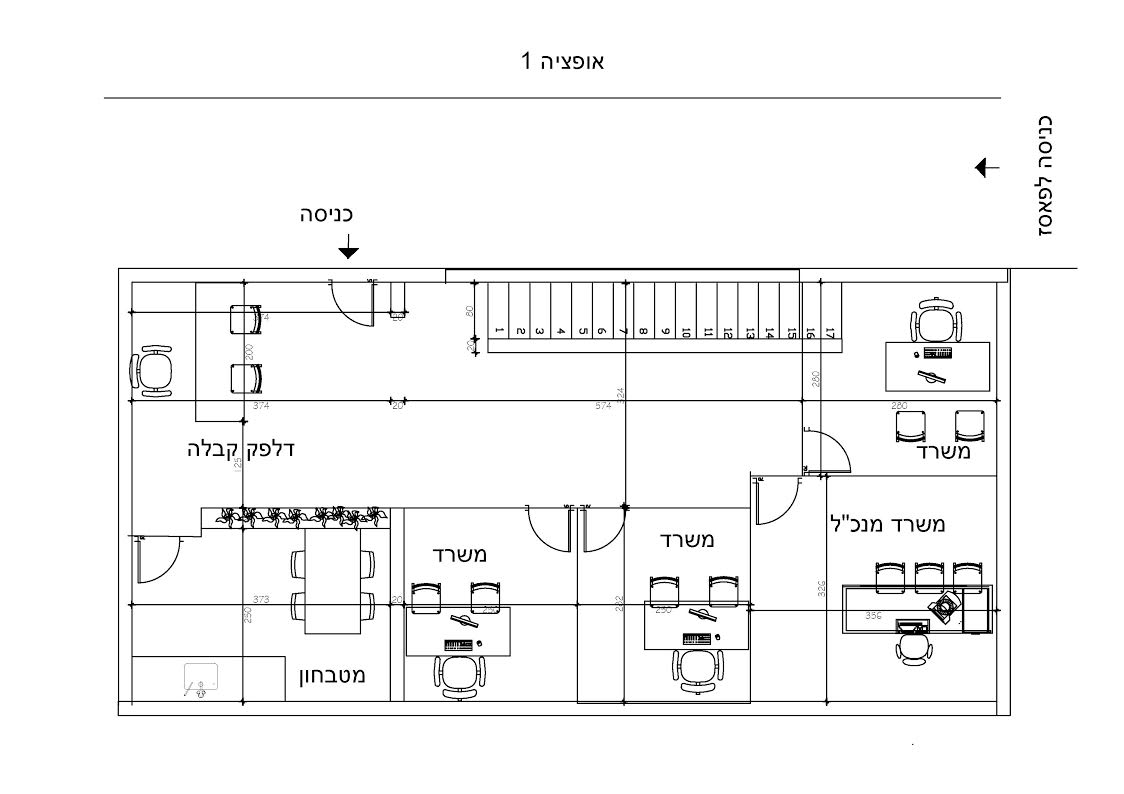door: (317, 292, 386, 347), (515, 516, 574, 561), (753, 489, 803, 534), (815, 428, 856, 474), (135, 548, 185, 585), (580, 518, 624, 556)
